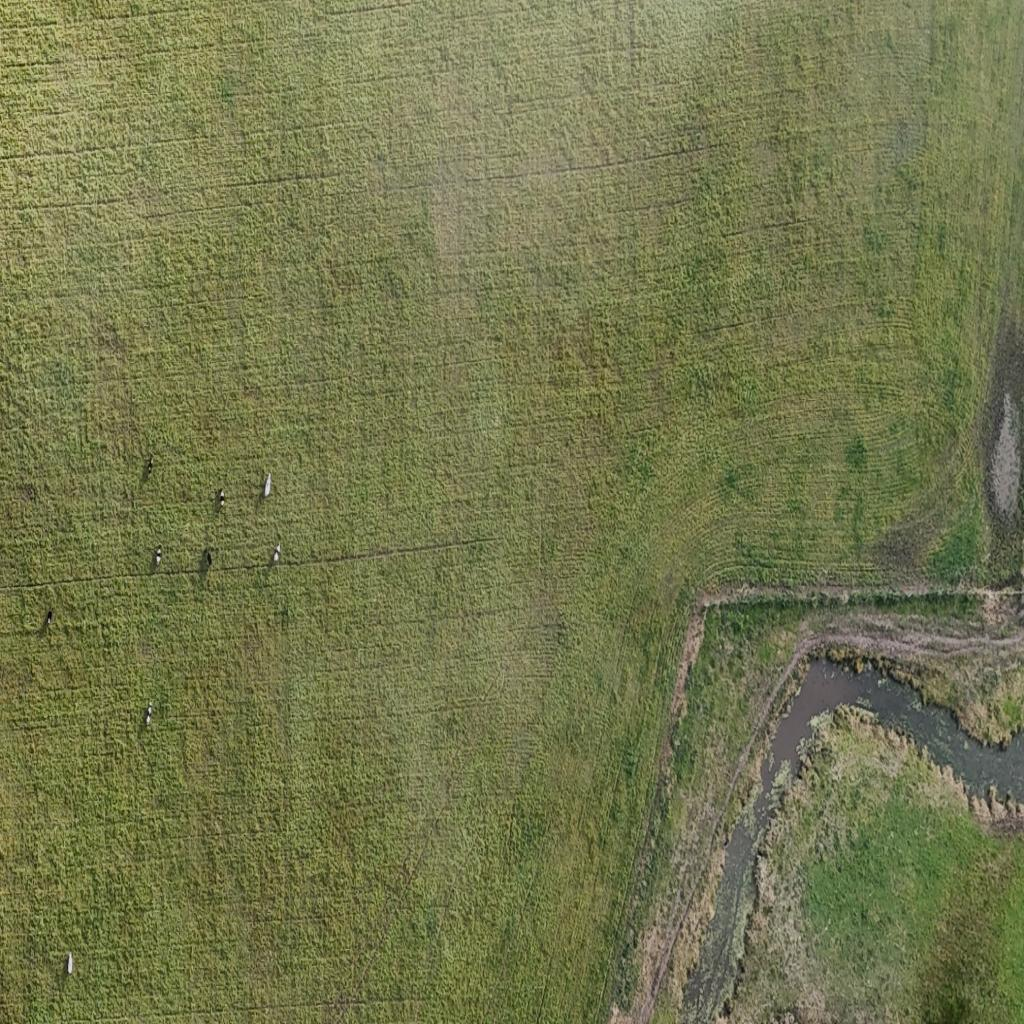cow: (264, 471, 272, 497), (146, 702, 154, 726), (273, 544, 281, 564), (67, 952, 73, 974), (147, 455, 153, 477), (156, 546, 162, 566), (219, 488, 225, 508), (206, 548, 212, 566), (47, 609, 53, 627)
